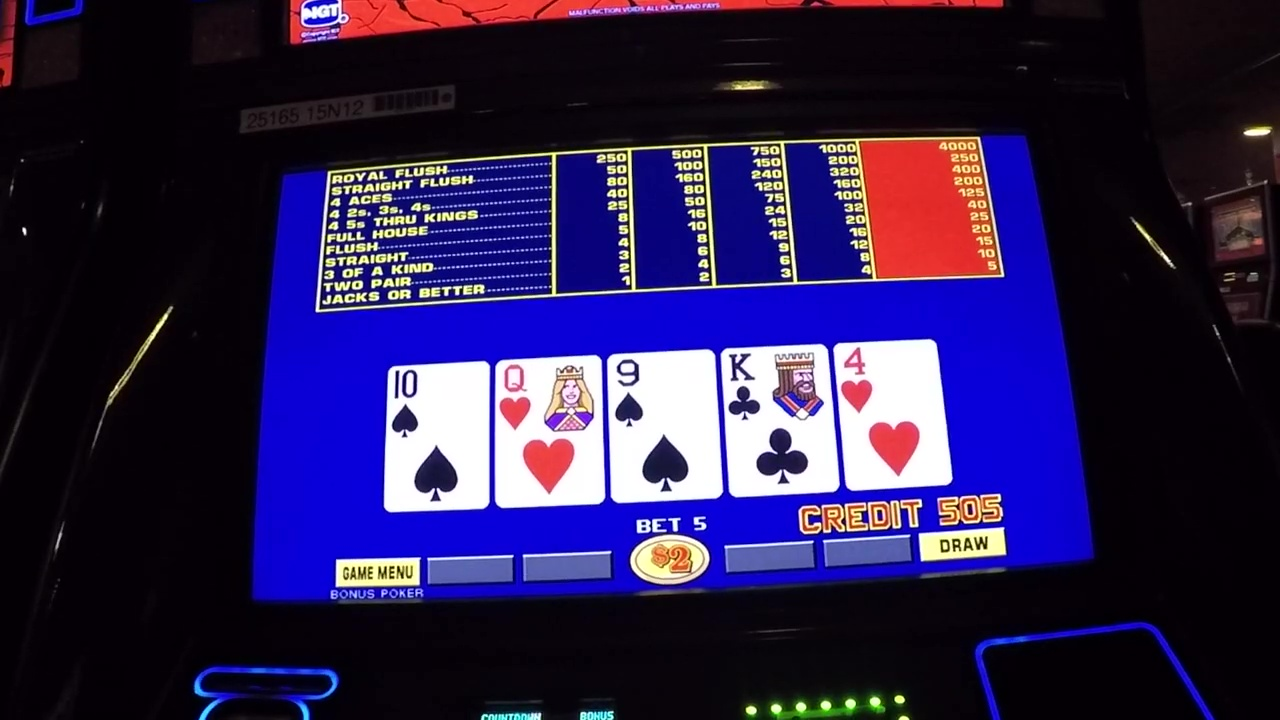CK: (724, 345, 830, 429)
H4: (840, 345, 941, 420)
HQ: (500, 359, 600, 435)
S9: (611, 353, 711, 434)
ST: (388, 367, 487, 440)
